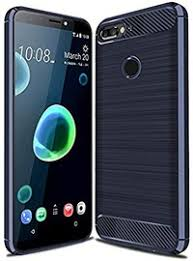htc: (93, 1, 192, 257), (1, 2, 94, 257)
